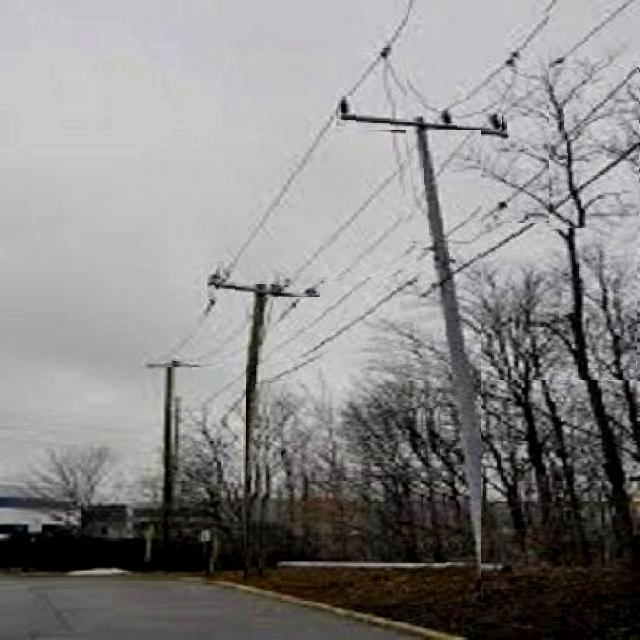crossarm: (338, 97, 501, 130), (207, 269, 320, 297)
pole: (408, 109, 481, 605), (246, 278, 273, 577)
wire: (267, 147, 638, 380), (224, 7, 408, 274), (358, 9, 549, 223), (463, 67, 638, 230), (268, 229, 442, 357), (334, 135, 472, 274), (164, 282, 223, 367), (283, 228, 348, 281)
